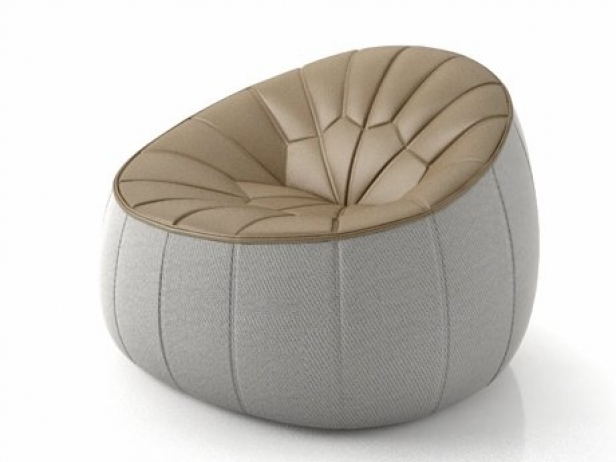chairs: (91, 39, 549, 436)
